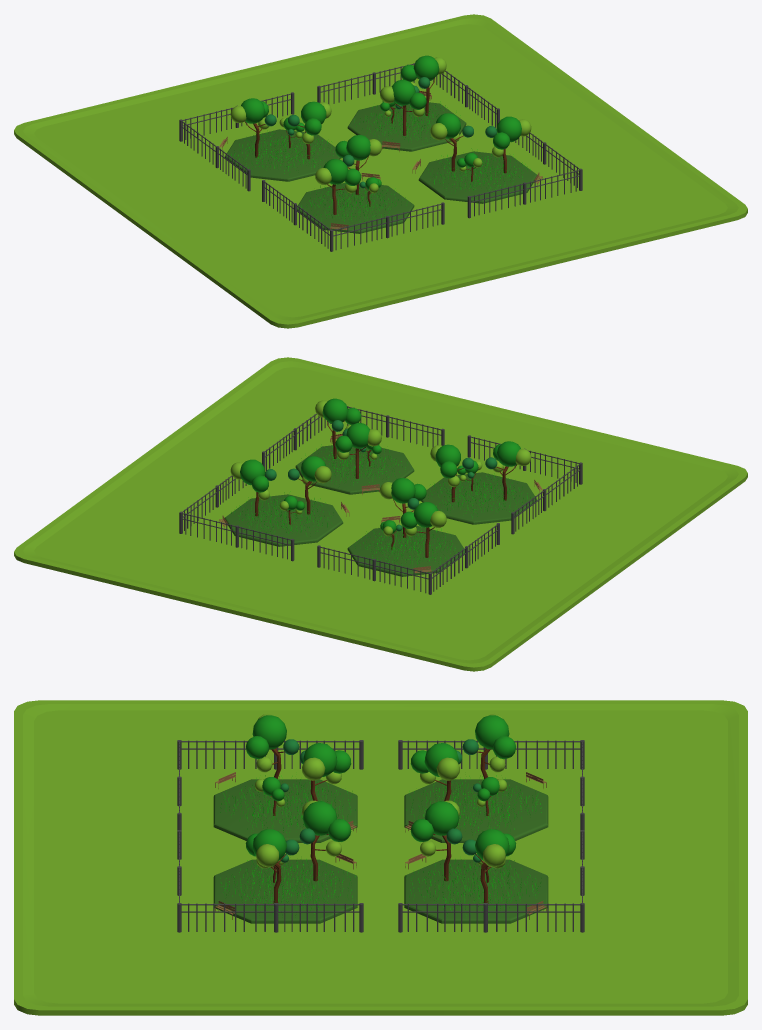
Rendered from parkfbx.fbx.
3 views of the same model, one above another, from view 1: azimuth 30°, elevation 25°; view 2: azimuth 150°, elevation 25°; view 3: azimuth 270°, elevation 25° (orthographic). The views are drawn at different scales.
Visible parts, largest first — view 1: Ground; view 2: Ground; view 3: Ground.
Boxes of the visible parts, x1=… form: Ground: x1=14, y1=14, x2=747, y2=328; Ground: x1=14, y1=357, x2=747, y2=671; Ground: x1=14, y1=700, x2=747, y2=1015.
Size of the model in its own units: 2000 by 262 by 2000.
